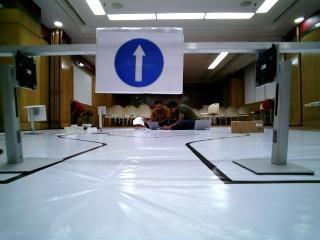straight: (95, 27, 181, 95)
